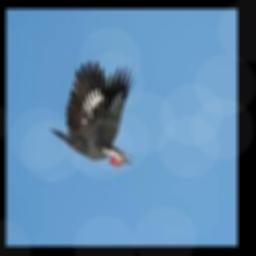Woodpecker: (50, 59, 137, 167)
